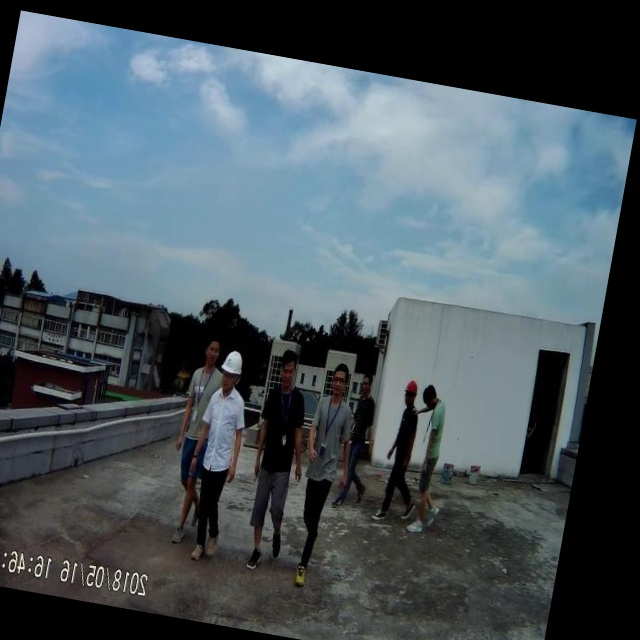Con_Casco: (218, 349, 246, 392)
Sin_Casco_Mascarrilla: (276, 347, 302, 391), (328, 362, 351, 402)
Sin_Chaleco: (252, 385, 309, 480), (193, 386, 248, 480), (304, 395, 355, 483)
